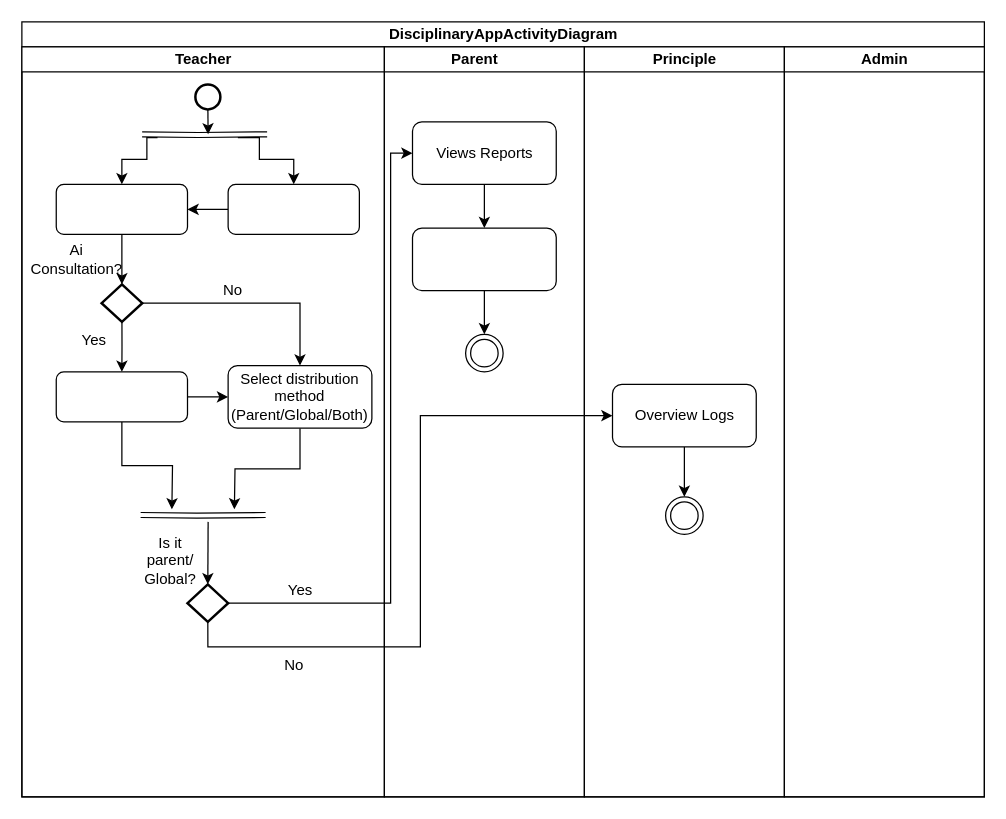
The diagram is 1006 pixels wide and 819 high, and some of its shapes have lost their labels. Each missing label, with the centre of its shape:
"Comment/Send message" goes at (483,259).
"Log Complaint/Concern" goes at (121,208).
"View Student List" goes at (293,208).
"View Summarised solutions" goes at (121,396).
